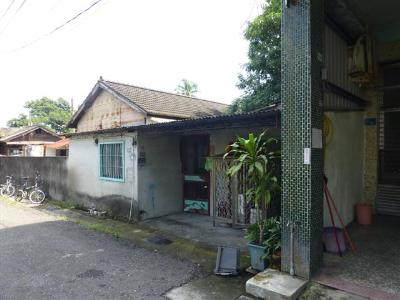bucket: (211, 244, 243, 277), (355, 201, 375, 227)
